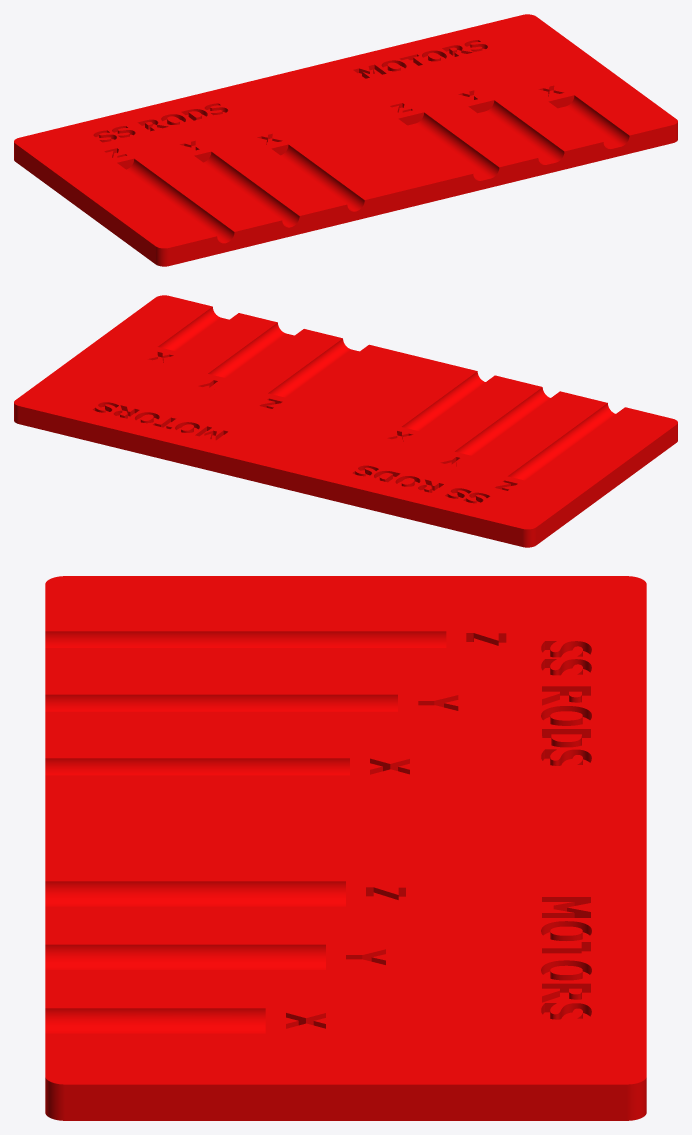
File: V5_Rod_Motor_Lengths.obj
The picture shows the model from 3 angles, top to bottom: view 1: azimuth 30°, elevation 25°; view 2: azimuth 150°, elevation 25°; view 3: azimuth 270°, elevation 25°; orthographic projection. The views are drawn at different scales.
Visible parts, largest first — view 1: Solid1:12; view 2: Solid1:12; view 3: Solid1:12.
Boxes of the visible parts, box(x1,y1,x2,y2) form: Solid1:12: box(14, 14, 677, 266); Solid1:12: box(14, 295, 677, 547); Solid1:12: box(45, 576, 646, 1120).
Bounding box in the file's own units: 150 × 5 × 75.
